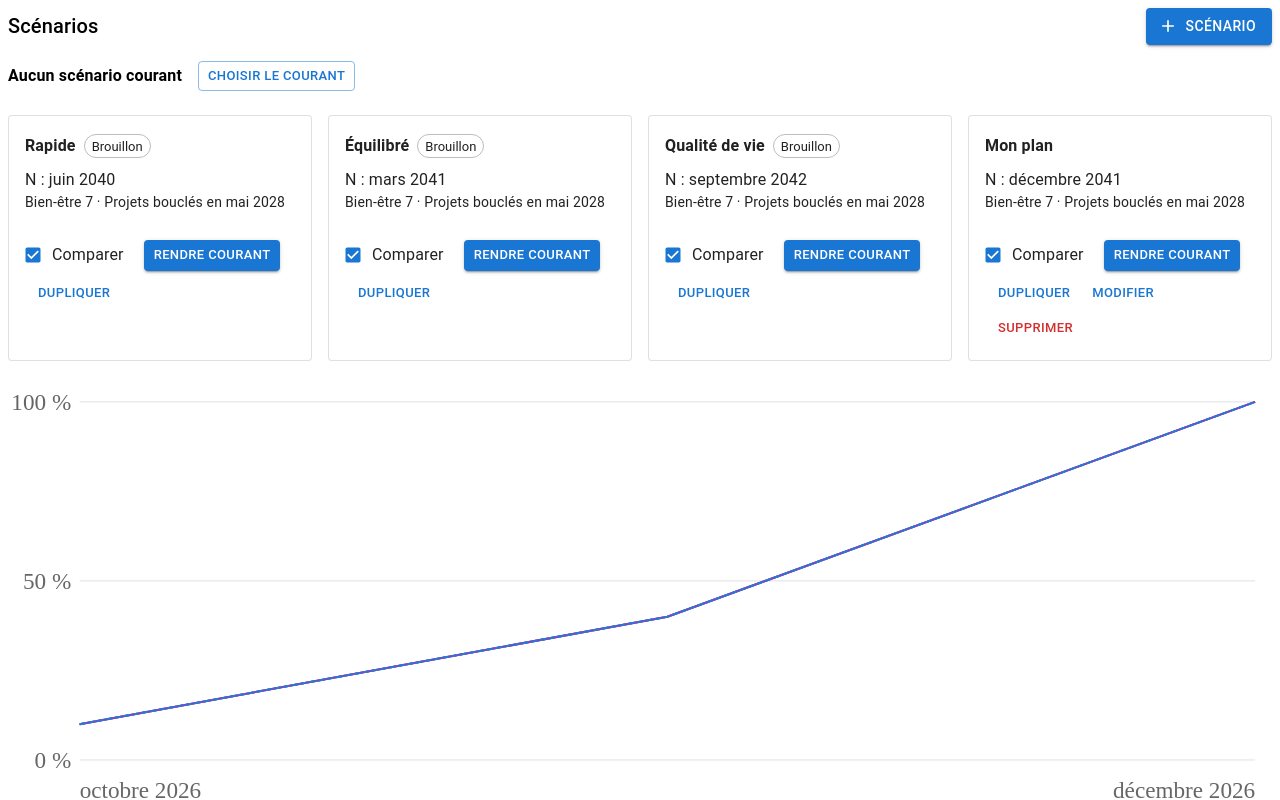
it: ScenariosPanel › picks the current scenario from the banner when none is
Click the button "Choisir le courant" at (277, 76), box [198,60,355,91]
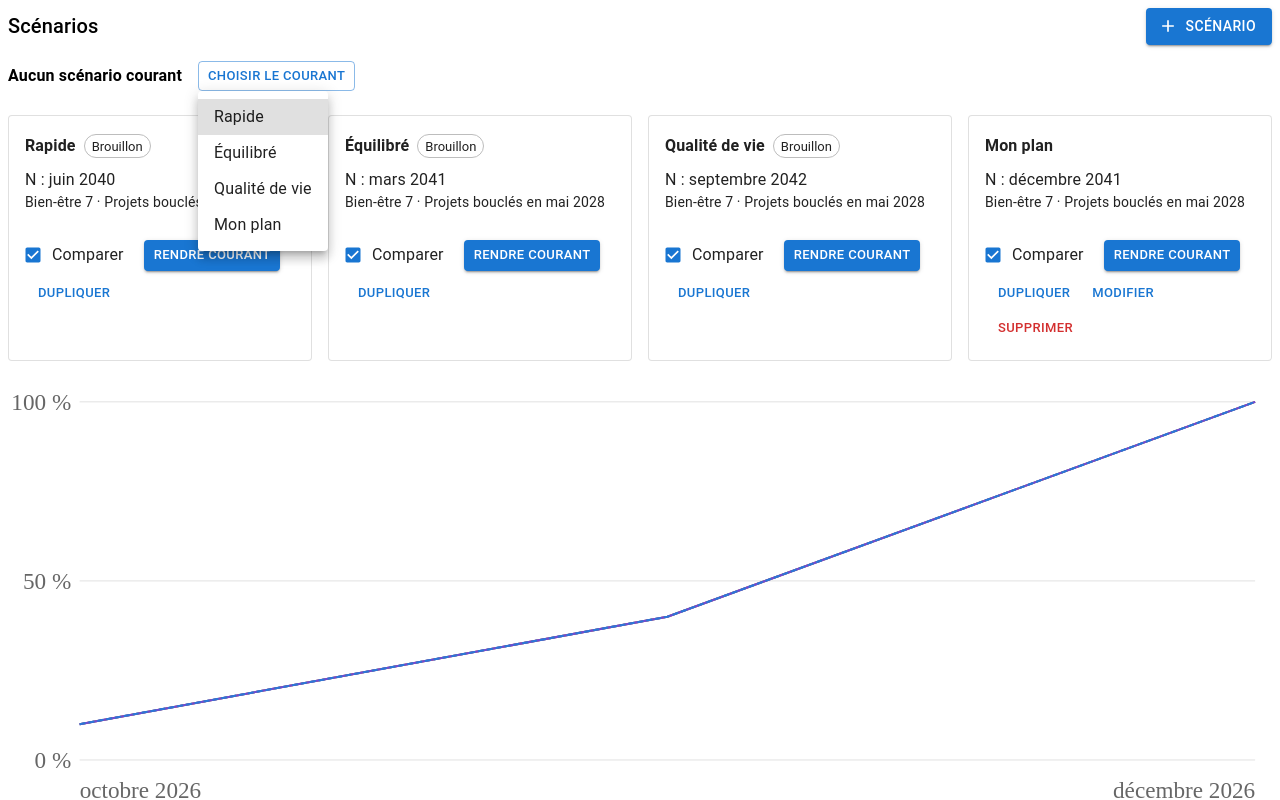
Click the menu item "Mon plan" at (248, 224), box [214,215,282,234]
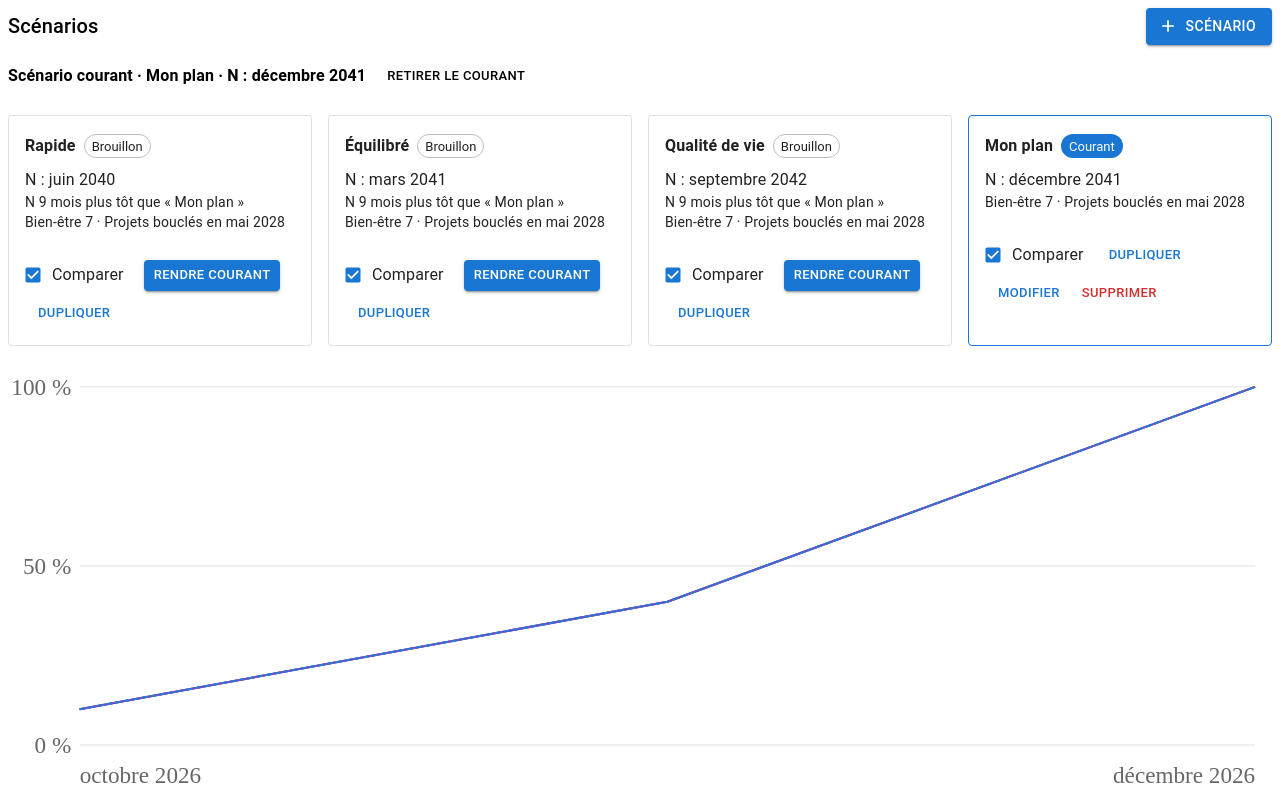
Expected: the element with test id "scenario-current" shows "Scénario courant · Mon plan", [8,66,366,85]
